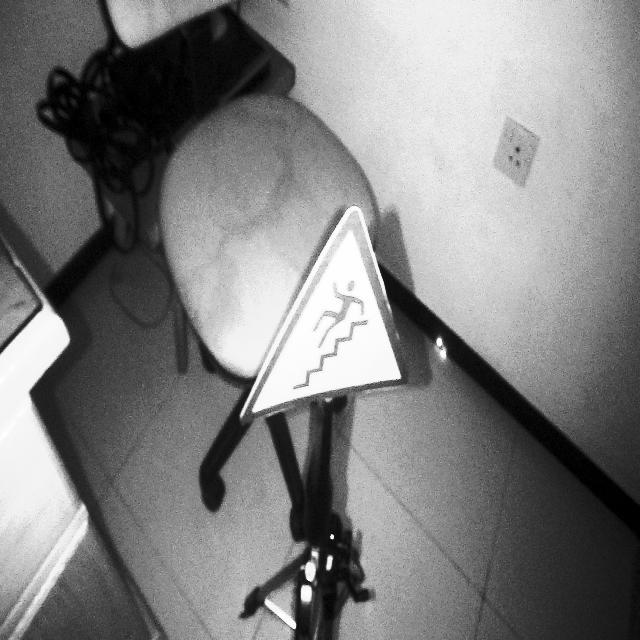Sign: (238, 205, 412, 429)
